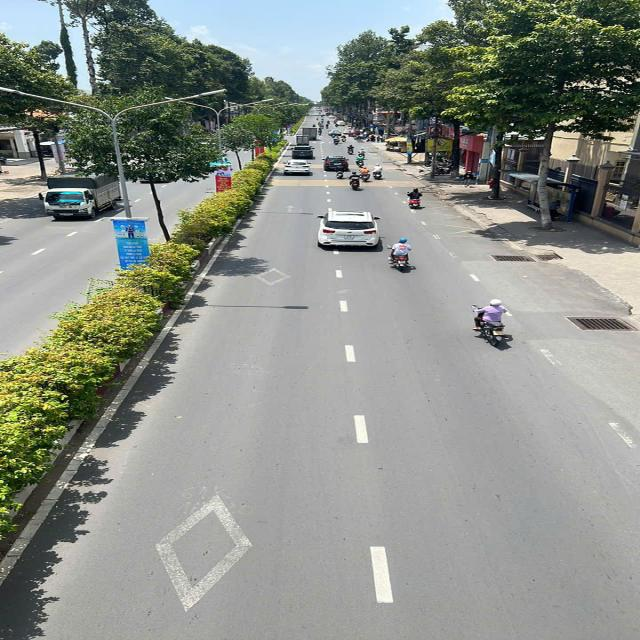Dump Truck: (34, 167, 126, 220), (300, 127, 317, 141)
Truck: (296, 135, 310, 146)
car: (322, 210, 377, 247), (286, 162, 312, 176), (322, 157, 347, 170), (290, 147, 312, 159), (348, 131, 361, 137), (342, 128, 355, 134), (335, 120, 346, 126), (328, 115, 336, 118)
motobyte: (473, 301, 509, 344), (391, 239, 414, 271), (410, 187, 426, 208), (350, 175, 359, 190), (361, 167, 369, 181), (374, 165, 382, 179), (335, 167, 343, 179), (356, 156, 364, 167), (347, 144, 354, 155), (333, 136, 340, 145), (359, 149, 365, 159), (342, 134, 346, 142), (331, 132, 336, 138), (318, 128, 322, 135), (326, 121, 330, 124), (321, 124, 323, 129), (326, 124, 328, 129)
